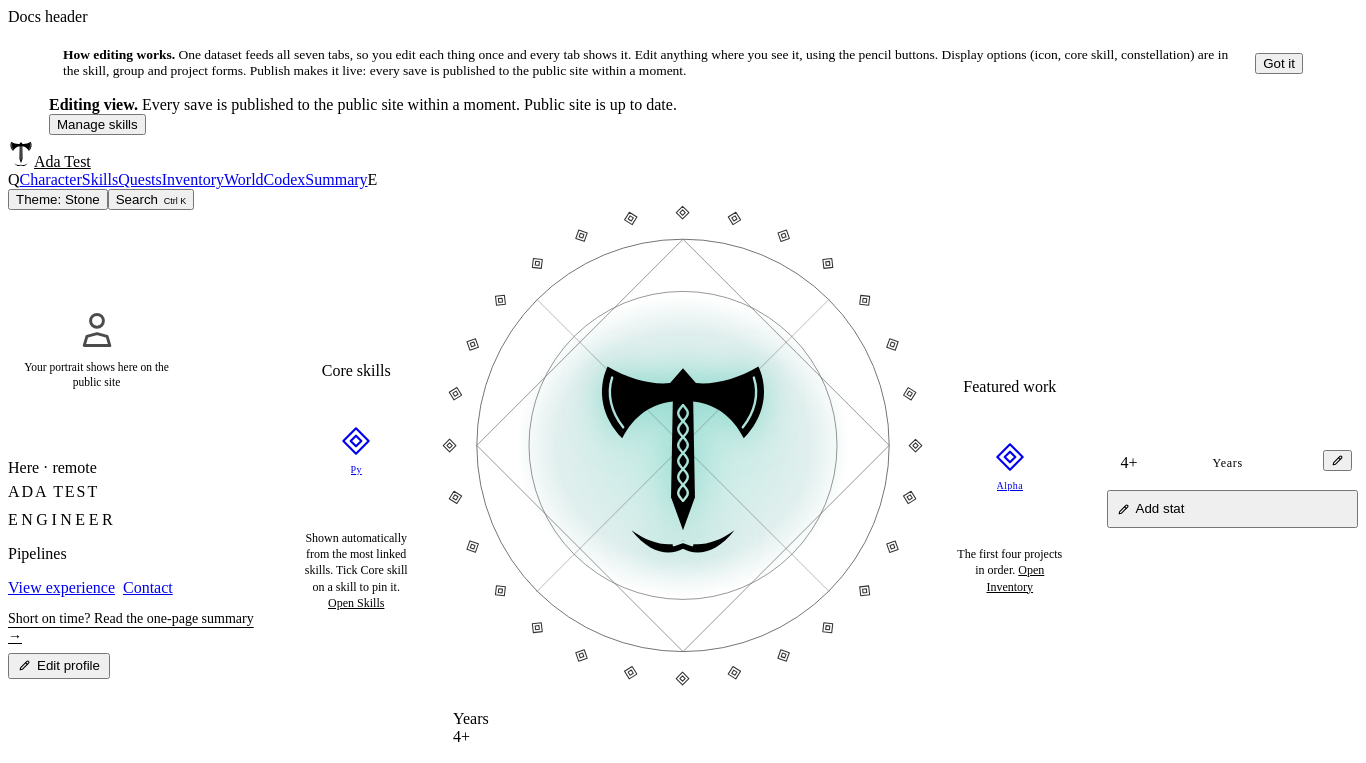
Test: PortfolioAdmin › renders the tabbed shell and opens the drawer for a chosen resource
Expected: the text "Docs header" is shown, [8,8,88,25]
Expected: the element "How editing works" is shown, [49,38,1317,88]
Click the button "Edit profile". click: coordinates (59, 666)
box: [8,653,110,679]
(page scrolled)
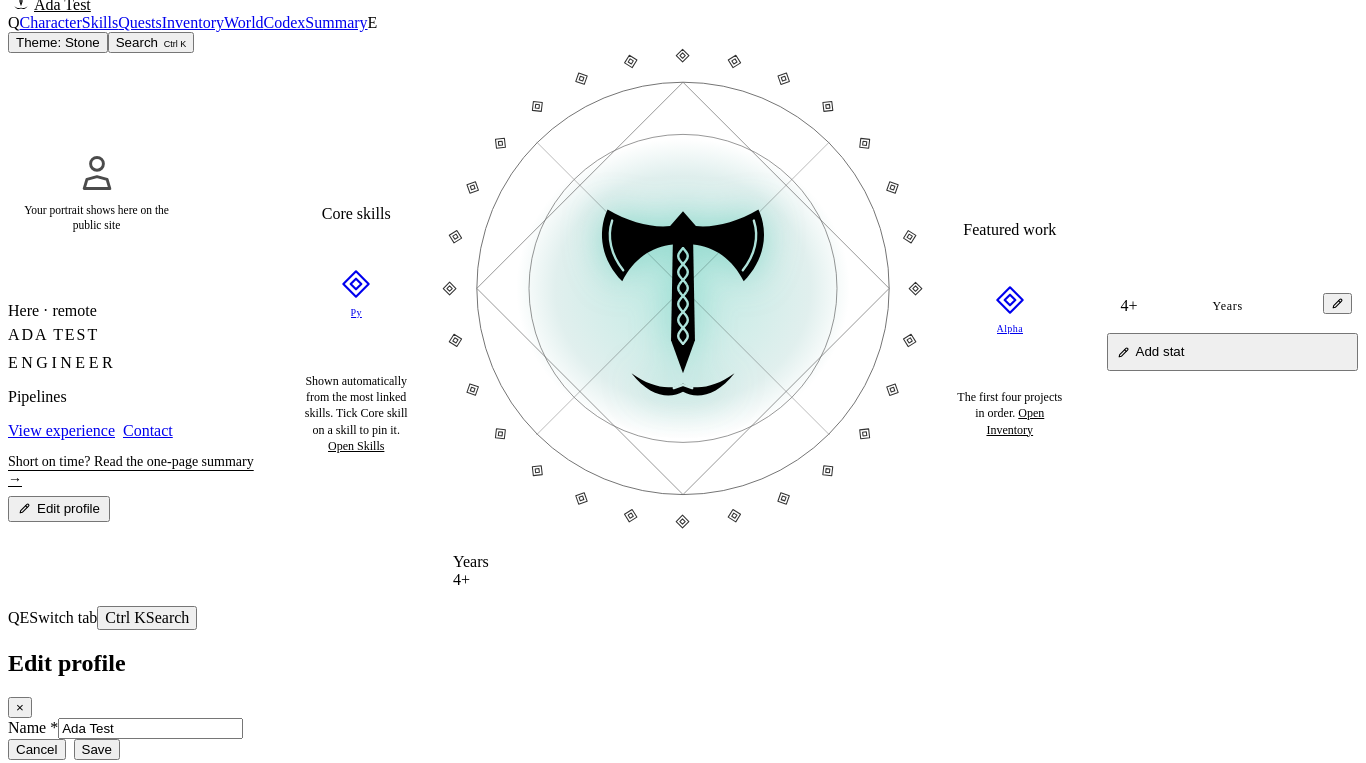
Expected: the dialog "Edit profile × Name * Cancel Save" is shown, [8,650,243,760]
